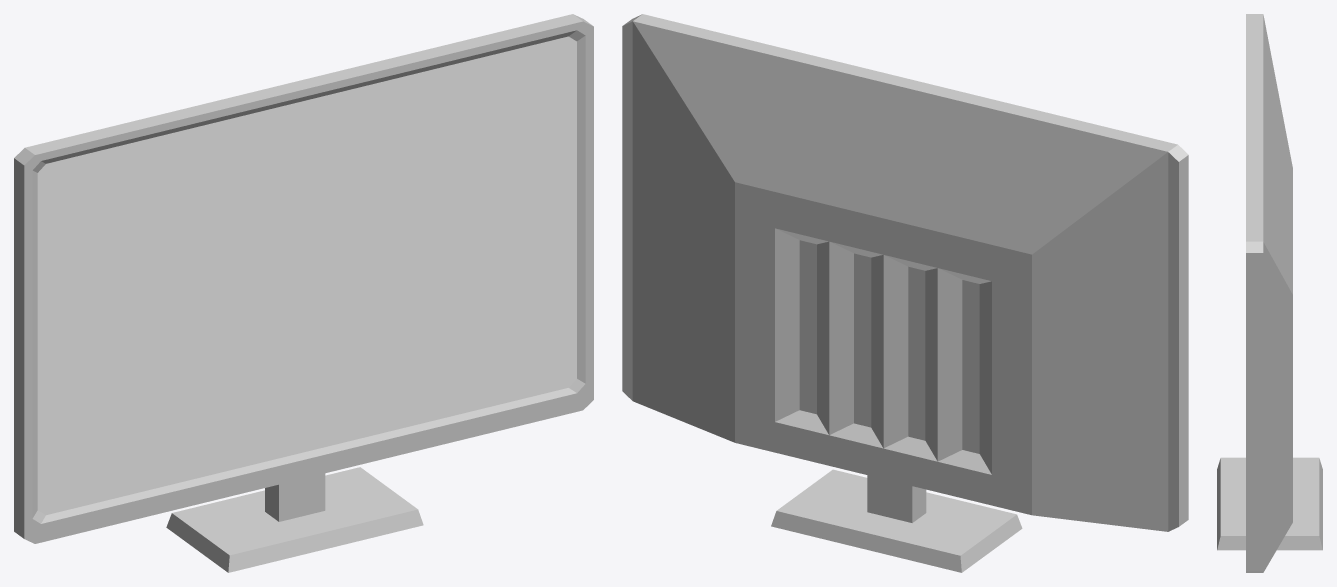
The model's file is SM_Prop_Television_Flat_01.glb.
3 views of the same model, side by side, from view 1: azimuth 30°, elevation 25°; view 2: azimuth 150°, elevation 25°; view 3: azimuth 270°, elevation 25° (orthographic). The views are drawn at different scales.
Parts seen in each view (by area): view 1: SM_Prop_Television_Flat_01; view 2: SM_Prop_Television_Flat_01; view 3: SM_Prop_Television_Flat_01.
Boxes of the visible parts, x1,y1,x2,y2 form: SM_Prop_Television_Flat_01: (14,14,593,572); SM_Prop_Television_Flat_01: (622,14,1188,572); SM_Prop_Television_Flat_01: (1217,14,1322,572).
Bounding box in the file's own units: 1.35 × 1.02 × 0.2556.
2 materials, 1 textured.
